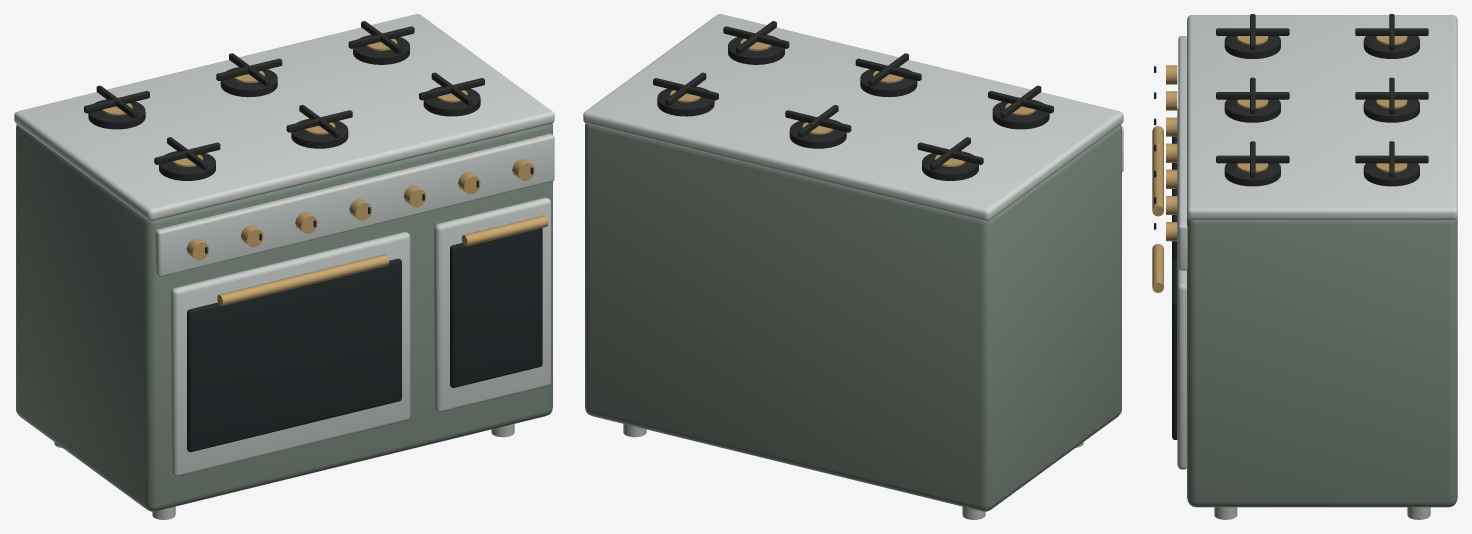
Rendered from italian-range-lod0.glb.
3 views of the same model, side by side, from view 1: azimuth 30°, elevation 25°; view 2: azimuth 150°, elevation 25°; view 3: azimuth 270°, elevation 25° (orthographic).
Parts seen in each view (by area): view 1: italian-range.lod0__furniture polished nickel, italian-range.lod0__range sage enamel, italian-range.lod0__range black glass, italian-range.lod0__range cast iron, italian-range.lod0__furniture brushed brass; view 2: italian-range.lod0__range sage enamel, italian-range.lod0__furniture polished nickel, italian-range.lod0__range cast iron, italian-range.lod0__furniture brushed brass; view 3: italian-range.lod0__range sage enamel, italian-range.lod0__furniture polished nickel, italian-range.lod0__range cast iron, italian-range.lod0__furniture brushed brass, italian-range.lod0__range black glass.
Part boxes in pixels (x1,y1,x2,y2): italian-range.lod0__furniture polished nickel: (14, 14, 554, 519); italian-range.lod0__range sage enamel: (16, 123, 552, 511); italian-range.lod0__range black glass: (187, 167, 542, 452); italian-range.lod0__range cast iron: (84, 21, 484, 180); italian-range.lod0__furniture brushed brass: (101, 38, 548, 305); italian-range.lod0__range sage enamel: (585, 123, 1121, 511); italian-range.lod0__furniture polished nickel: (583, 14, 1123, 519); italian-range.lod0__range cast iron: (653, 21, 1053, 180); italian-range.lod0__furniture brushed brass: (670, 38, 1036, 166); italian-range.lod0__range sage enamel: (1187, 216, 1457, 507); italian-range.lod0__furniture polished nickel: (1177, 15, 1457, 519); italian-range.lod0__range cast iron: (1216, 14, 1428, 186); italian-range.lod0__furniture brushed brass: (1152, 36, 1407, 292); italian-range.lod0__range black glass: (1154, 66, 1177, 439).
Size of the model in its own units: 1.2 by 0.973 by 0.79.
